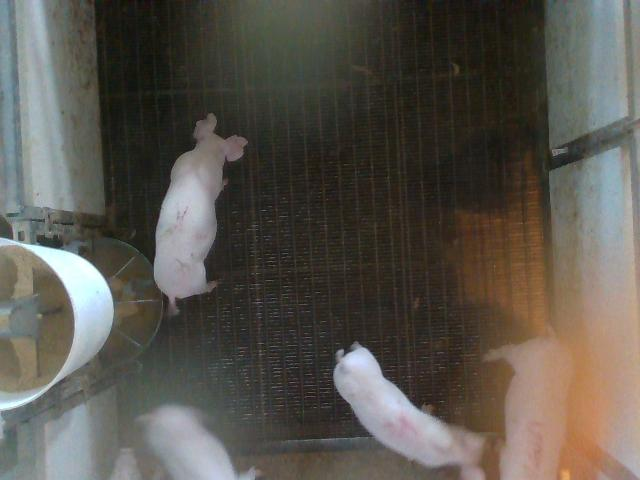pig-3: (485, 336, 572, 478)
pig-4: (335, 342, 484, 479)
